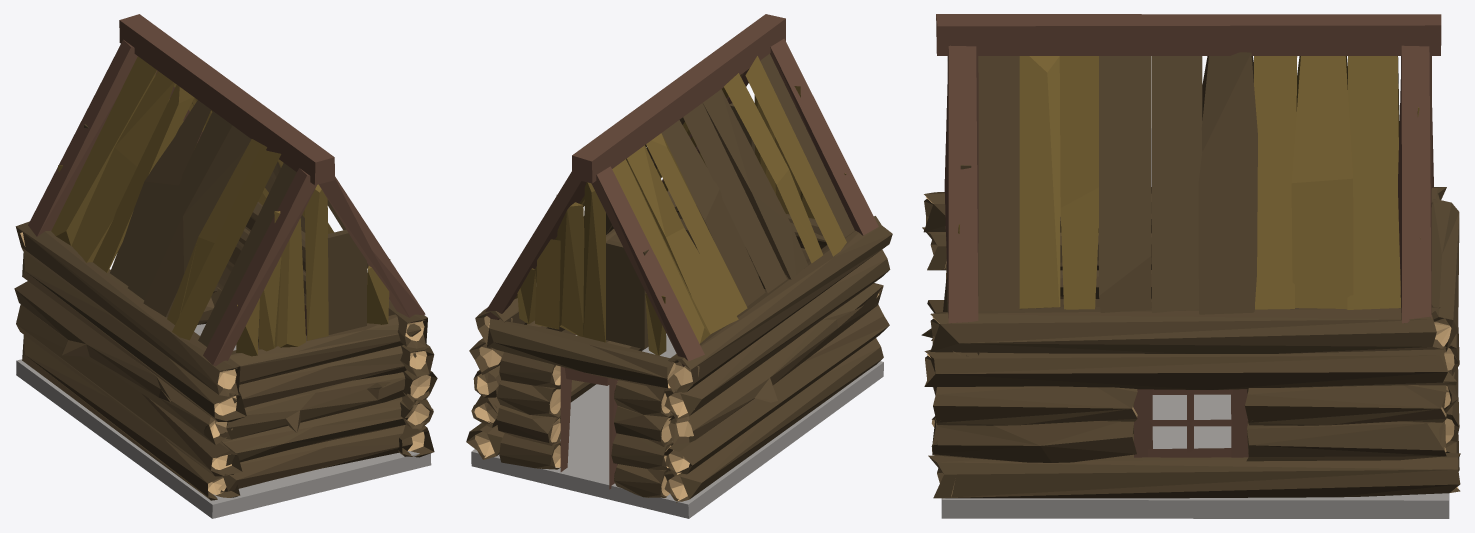
The model's file is House2.fbx.
The picture shows the model from 3 angles, left to right: view 1: azimuth 30°, elevation 25°; view 2: azimuth 150°, elevation 25°; view 3: azimuth 270°, elevation 25°; orthographic projection. The views are drawn at different scales.
Visible parts, largest first — view 1: House2; view 2: House2; view 3: House2.
Part boxes in pixels (x1,y1,x2,y2): House2: [14, 14, 437, 518]; House2: [466, 14, 892, 518]; House2: [921, 14, 1460, 518].
Size of the model in its own units: 588 by 770 by 873.
